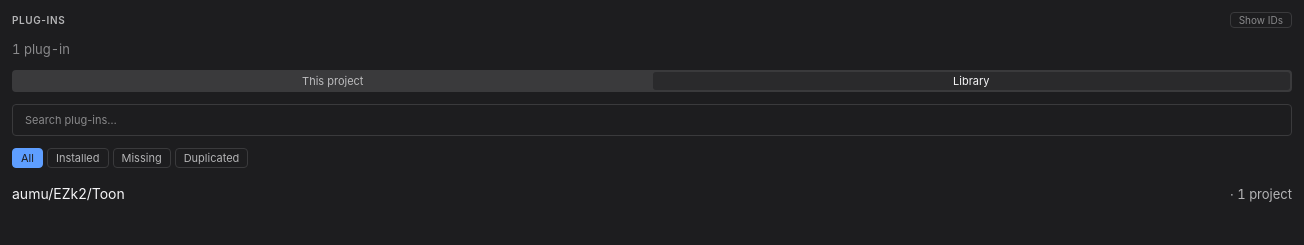
it: <PluginRail /> › scope toggle (lpx-explorer-185) › library scope rows disclose contributing project paths on click
The image size is (1304, 245).
Expected: the text "/a.logicx" is not shown
Click the button "· 1 project": (1261, 194) 1230,185 -> 1292,203
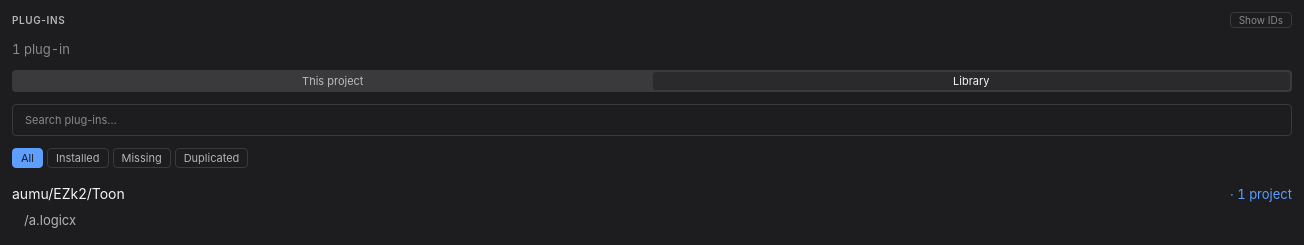
Expected: the button "· 1 project" is expanded, 1230,185 -> 1292,203
Expected: the button "/a.logicx" is shown, 24,212 -> 76,228
